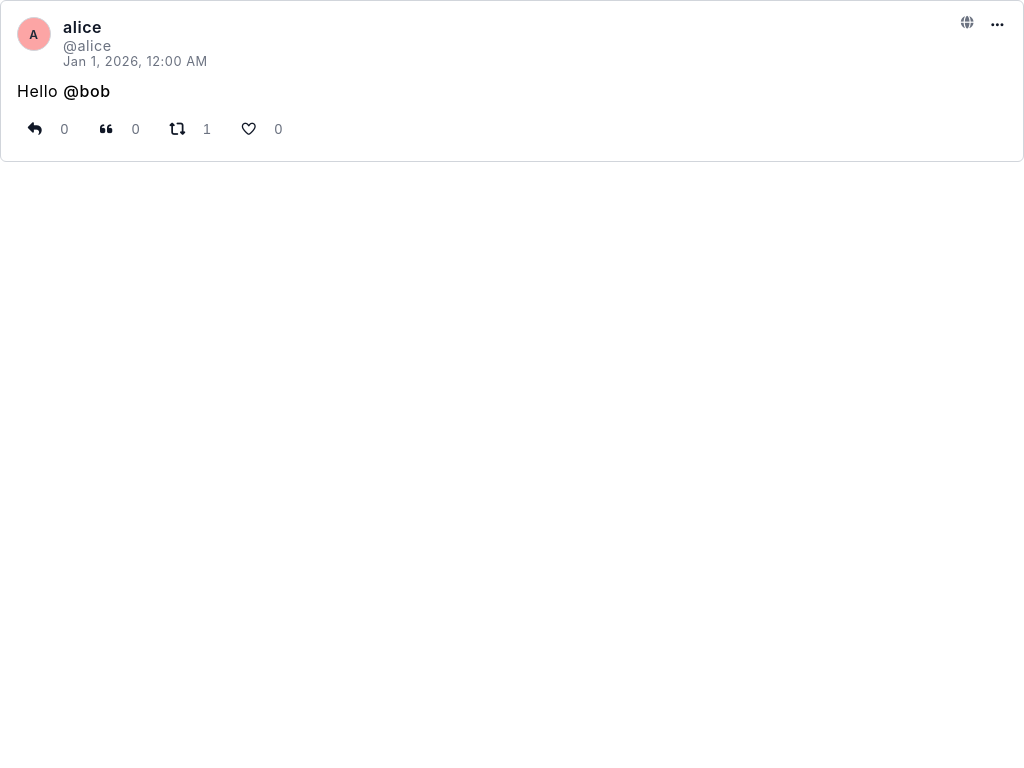
Scenario: ActivityCard › opens the actors modal when the boost counter is clicked
Click the button with class "activity-card__count" showing "1".
click(207, 129)  # box [195,117,219,141]
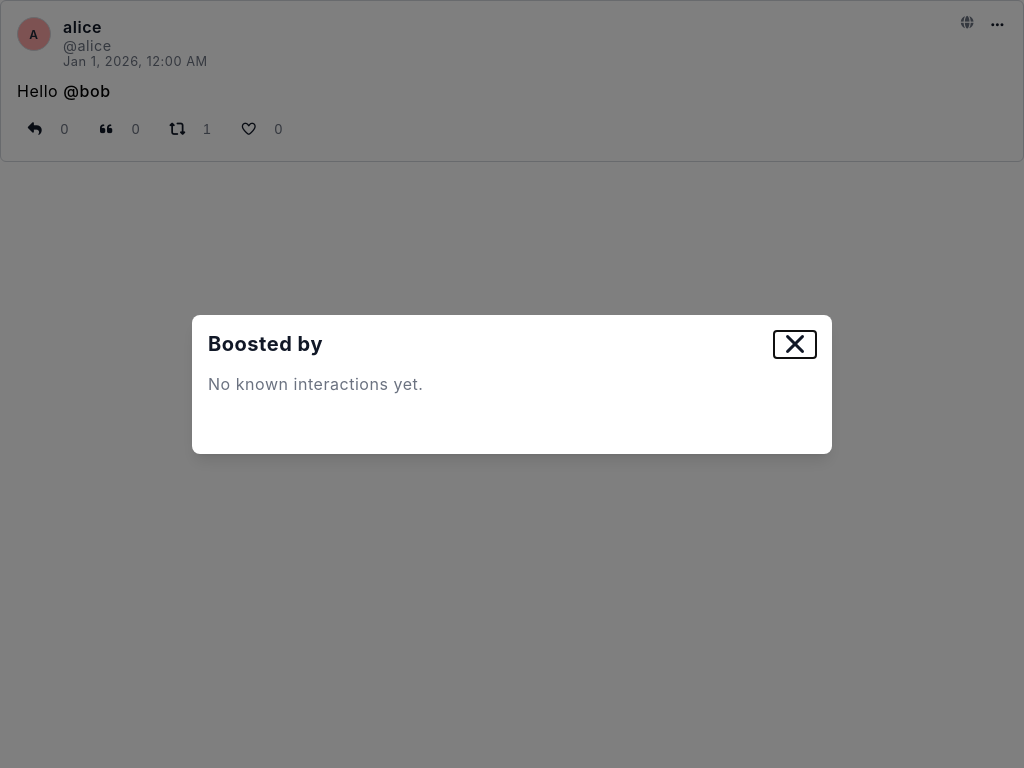
Expected: the text "Boosted by" is shown, [208,332,323,356]
